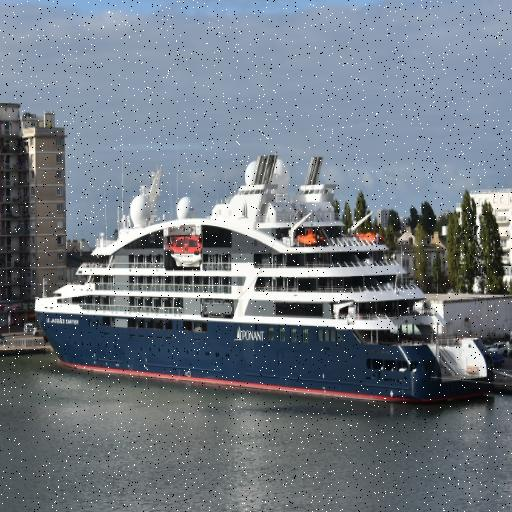cruises: (32, 148, 495, 416)
